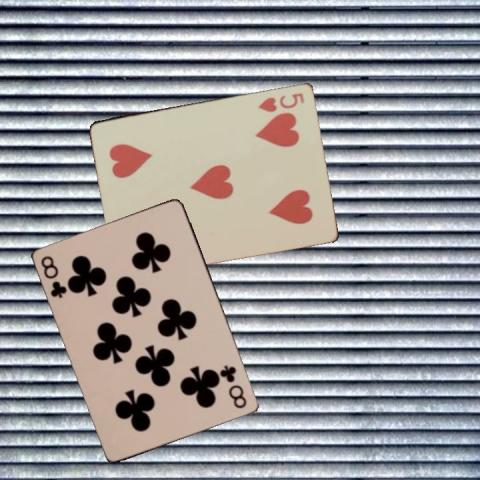5h: (255, 90, 306, 114)
8c: (38, 253, 69, 300), (218, 363, 248, 410)
